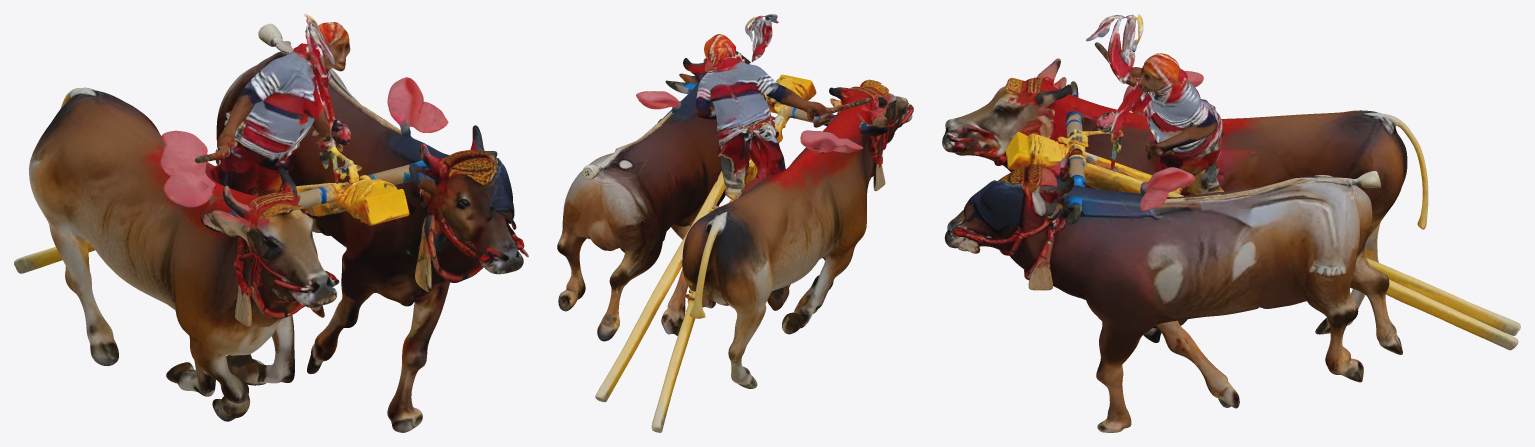
Rendered from karapan-sapi.glb.
3 views of the same model, side by side, from view 1: azimuth 30°, elevation 25°; view 2: azimuth 150°, elevation 25°; view 3: azimuth 270°, elevation 25° (orthographic). The views are drawn at different scales.
Parts seen in each view (by area): view 1: Object_4; view 2: Object_4; view 3: Object_4.
Boxes of the visible parts, box(x1,y1,x2,y2) form: Object_4: box(14, 14, 528, 432); Object_4: box(557, 14, 913, 432); Object_4: box(942, 14, 1520, 432).
Bounding box in the file's own units: 0.5445 × 0.7286 × 1.
1 material, 1 textured.
